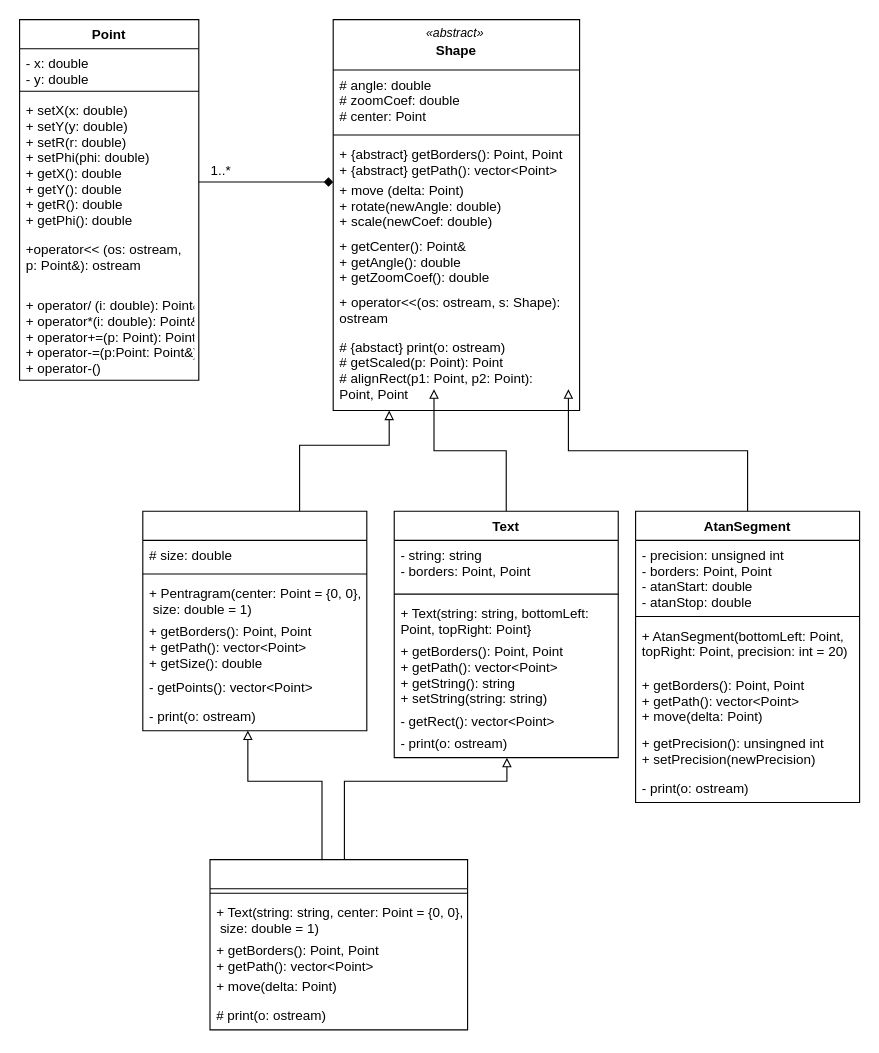
This 879x1053 diagram has some shape labels left out. The box of each missing label's shape, as (x1, y1, x2, y2) in pixels:
Pentagram: (142, 510, 367, 731)
PentagramText: (209, 858, 468, 1030)
